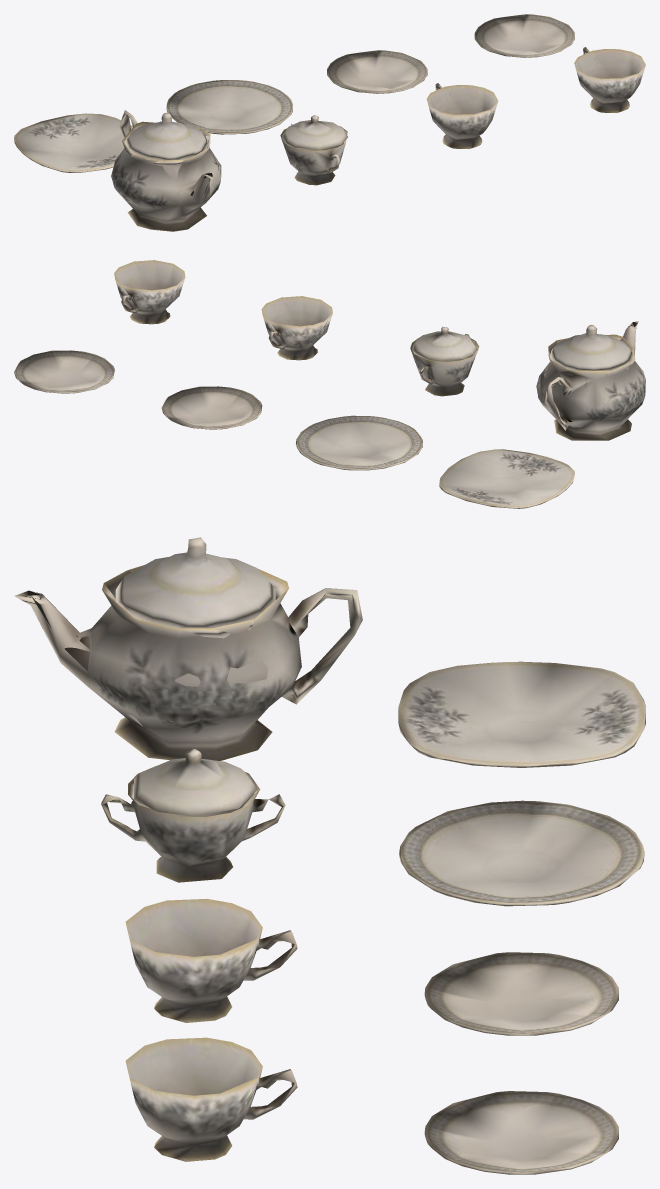
Rendered from tea_set_01.glb.
The picture shows the model from 3 angles, top to bottom: view 1: azimuth 30°, elevation 25°; view 2: azimuth 150°, elevation 25°; view 3: azimuth 270°, elevation 25°; orthographic projection. The views are drawn at different scales.
Visible parts, largest first — view 1: tea_set_01_teapot_01, tea_set_01_plate_large_circular_03, tea_set_01_plate_large_square_01, tea_set_01_saucer_circular_03, tea_set_01_saucer_circular_04, tea_set_01_cup_small_01, tea_set_01_cup_small_02, tea_set_01_teapot_01_lid, tea_set_01_sugar_cup_01, tea_set_01_sugar_cup_01_lid; view 2: tea_set_01_teapot_01, tea_set_01_plate_large_square_01, tea_set_01_plate_large_circular_03, tea_set_01_saucer_circular_03, tea_set_01_saucer_circular_04, tea_set_01_cup_small_02, tea_set_01_cup_small_01, tea_set_01_teapot_01_lid, tea_set_01_sugar_cup_01, tea_set_01_sugar_cup_01_lid; view 3: tea_set_01_teapot_01, tea_set_01_plate_large_square_01, tea_set_01_plate_large_circular_03, tea_set_01_cup_small_01, tea_set_01_cup_small_02, tea_set_01_saucer_circular_03, tea_set_01_saucer_circular_04, tea_set_01_teapot_01_lid, tea_set_01_sugar_cup_01, tea_set_01_sugar_cup_01_lid.
Boxes of the visible parts, box(x1,y1,x2,y2) form: tea_set_01_teapot_01: box(111, 110, 221, 231); tea_set_01_plate_large_circular_03: box(166, 80, 292, 134); tea_set_01_plate_large_square_01: box(14, 113, 132, 172); tea_set_01_saucer_circular_03: box(474, 14, 574, 57); tea_set_01_saucer_circular_04: box(327, 50, 427, 93); tea_set_01_cup_small_01: box(426, 83, 498, 148); tea_set_01_cup_small_02: box(574, 47, 645, 112); tea_set_01_teapot_01_lid: box(124, 113, 208, 160); tea_set_01_sugar_cup_01: box(280, 124, 347, 185); tea_set_01_sugar_cup_01_lid: box(282, 115, 347, 150); tea_set_01_teapot_01: box(536, 321, 645, 440); tea_set_01_plate_large_square_01: box(439, 449, 574, 508); tea_set_01_plate_large_circular_03: box(295, 415, 422, 470); tea_set_01_saucer_circular_03: box(14, 350, 114, 393); tea_set_01_saucer_circular_04: box(161, 386, 262, 429); tea_set_01_cup_small_02: box(114, 260, 185, 324); tea_set_01_cup_small_01: box(261, 296, 332, 360); tea_set_01_teapot_01_lid: box(549, 325, 632, 373); tea_set_01_sugar_cup_01: box(410, 334, 479, 396); tea_set_01_sugar_cup_01_lid: box(412, 326, 477, 361); tea_set_01_teapot_01: box(14, 565, 362, 760); tea_set_01_plate_large_square_01: box(398, 661, 645, 767); tea_set_01_plate_large_circular_03: box(399, 800, 644, 906); tea_set_01_cup_small_01: box(125, 899, 297, 1022); tea_set_01_cup_small_02: box(125, 1037, 297, 1161); tea_set_01_saucer_circular_03: box(424, 1091, 618, 1174); tea_set_01_saucer_circular_04: box(424, 952, 618, 1035); tea_set_01_teapot_01_lid: box(115, 537, 275, 628); tea_set_01_sugar_cup_01: box(101, 765, 285, 882); tea_set_01_sugar_cup_01_lid: box(134, 748, 257, 816).
Size of the model in its own units: 0.918 by 0.1633 by 0.4809.
Materials: 1 (1 with a texture image).
